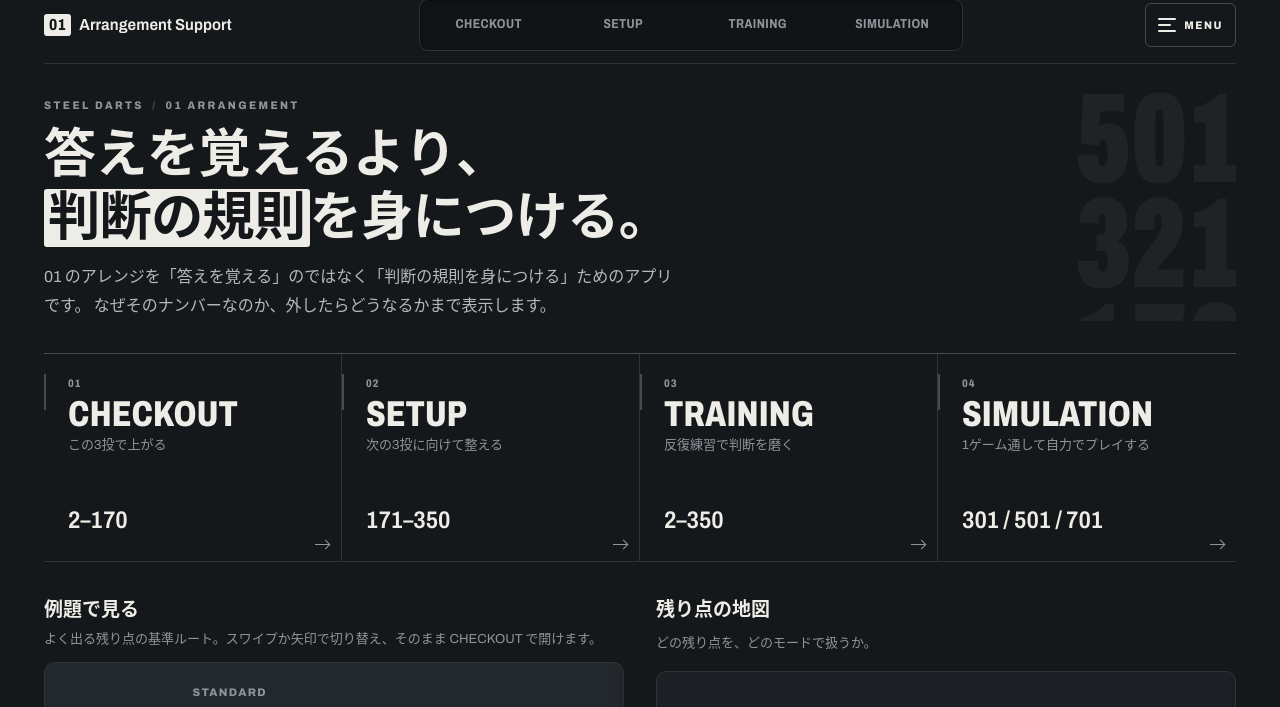
Test: SIMULATION の導線 › 既存モードと同じ階層に SIMULATION がある
Expected: the button with test id "nav-simulation" is shown, x1=826 y1=3 x2=958 y2=47
Step 1. Click the button with test id "home-simulation" → [1058, 414], box x1=938 y1=354 x2=1236 y2=562
(page scrolled)
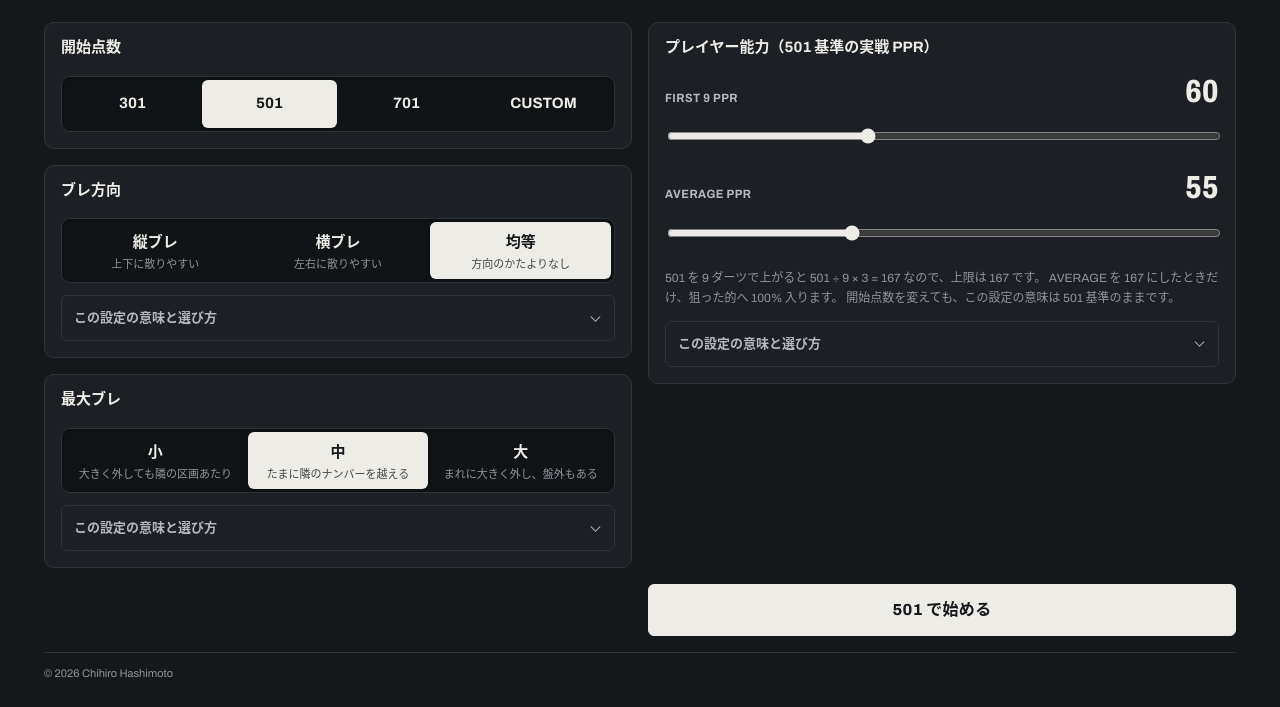
Result: the button with test id "start-simulation" is shown at x1=648 y1=584 x2=1236 y2=636
